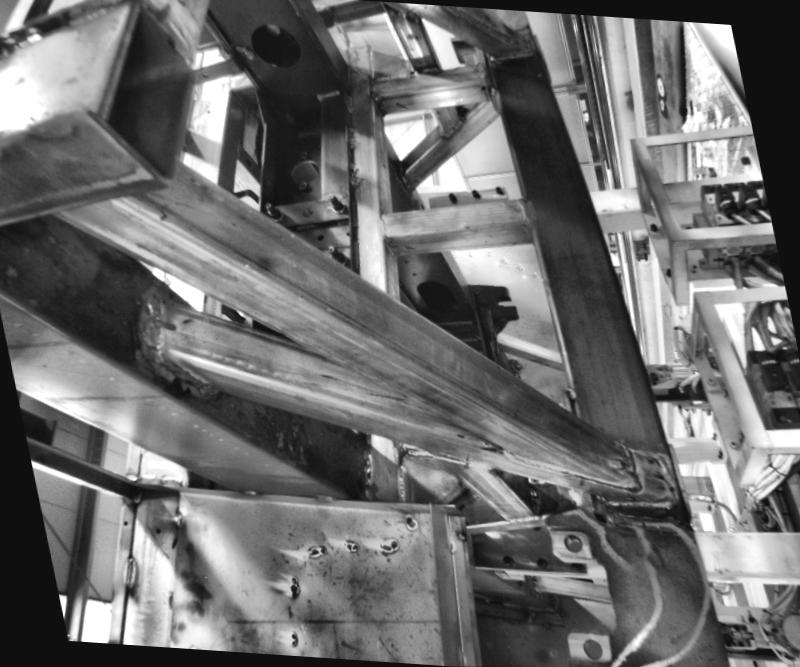bolt: (325, 191, 346, 215), (262, 200, 282, 222), (324, 244, 344, 266)
bracket: (466, 276, 526, 371)
hole: (579, 639, 603, 661), (559, 534, 584, 554), (149, 316, 175, 334), (295, 204, 314, 218), (152, 527, 162, 537), (314, 233, 324, 242), (121, 518, 128, 528), (400, 259, 408, 267), (412, 272, 419, 278), (344, 231, 350, 237)
welding: (141, 294, 176, 364), (591, 494, 688, 512), (660, 454, 678, 510), (624, 442, 639, 494), (118, 554, 138, 592), (518, 198, 536, 226), (344, 160, 360, 184), (236, 487, 260, 502), (344, 126, 358, 148), (376, 212, 386, 242), (310, 493, 336, 504), (344, 95, 354, 114), (173, 514, 184, 526)
